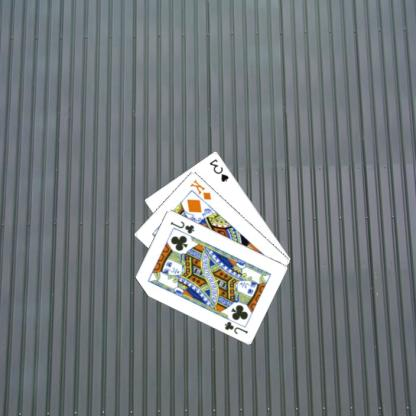3S: (209, 156, 232, 183)
JC: (170, 218, 198, 235), (223, 319, 251, 335)
KD: (189, 177, 215, 201)
